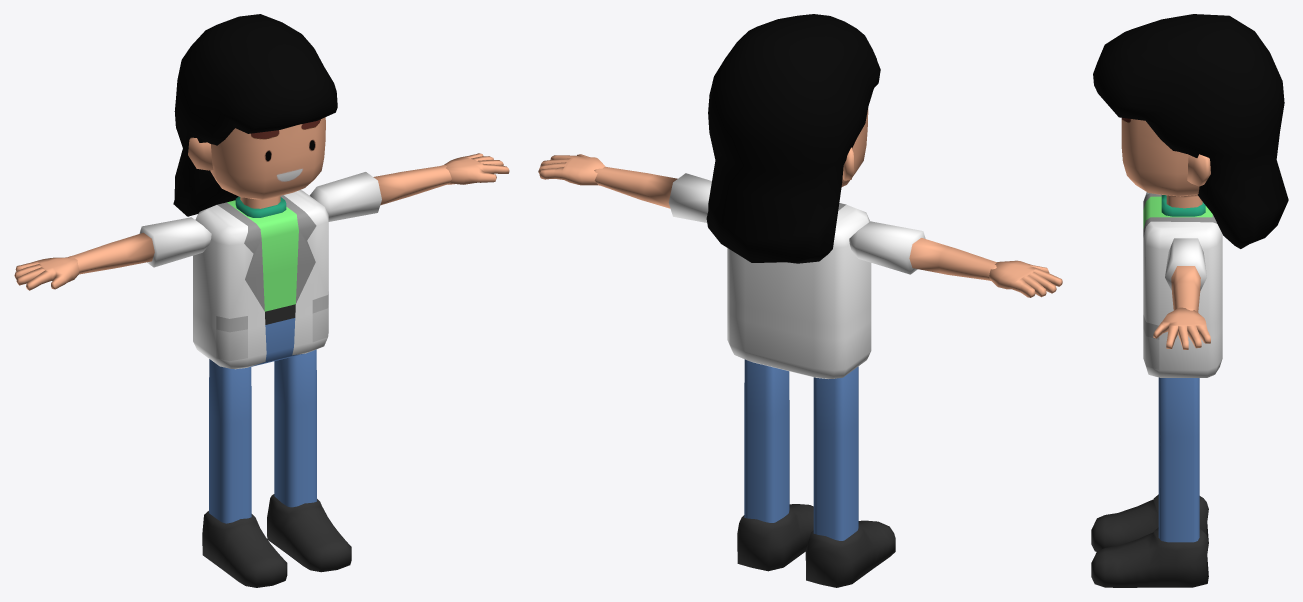
The model's file is NPC_White02_BlackHair02.gltf.
3 renders of one model, left to right at view 1: azimuth 30°, elevation 25°; view 2: azimuth 150°, elevation 25°; view 3: azimuth 270°, elevation 25°, orthographic. The views are drawn at different scales.
Parts seen in each view (by area): view 1: NPC_Corpo_White2_BlackHair.002; view 2: NPC_Corpo_White2_BlackHair.002; view 3: NPC_Corpo_White2_BlackHair.002.
Part boxes in pixels (x1,y1,x2,y2): NPC_Corpo_White2_BlackHair.002: [14, 14, 509, 587]; NPC_Corpo_White2_BlackHair.002: [538, 14, 1062, 587]; NPC_Corpo_White2_BlackHair.002: [1091, 14, 1288, 587].
Size of the model in its own units: 2.31 by 2.33 by 0.7777.
1 material, 1 textured.
